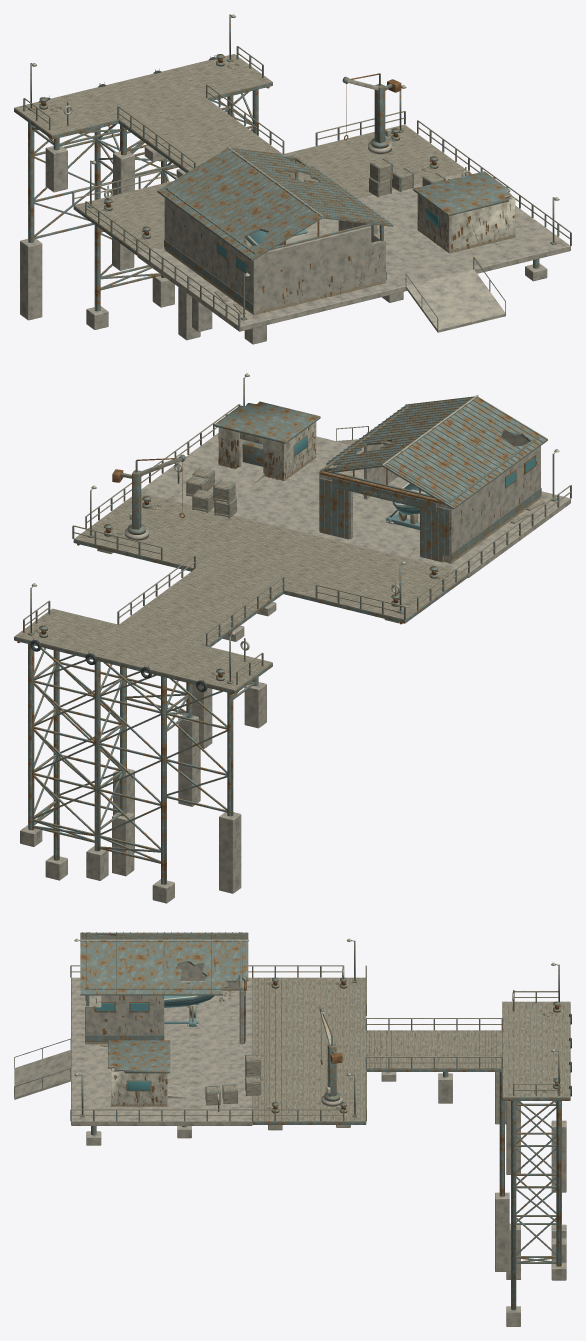
File: island_harbour_edit.glb
The picture shows the model from 3 angles, top to bottom: view 1: azimuth 30°, elevation 25°; view 2: azimuth 150°, elevation 25°; view 3: azimuth 270°, elevation 25°; orthographic projection. The views are drawn at different scales.
Parts seen in each view (by area): view 1: Dock, Boat; view 2: Dock, Boat; view 3: Dock, Boat.
Boxes of the visible parts, x1,y1,x2,y2 form: Dock: (14, 14, 571, 344); Boat: (244, 229, 307, 247); Dock: (14, 373, 571, 903); Boat: (386, 471, 427, 529); Dock: (14, 932, 571, 1326); Boat: (164, 981, 214, 1026).
Size of what is drawn, in the model's own units: 30.12 by 29.91 by 49.16.
19 materials, 11 textured.
